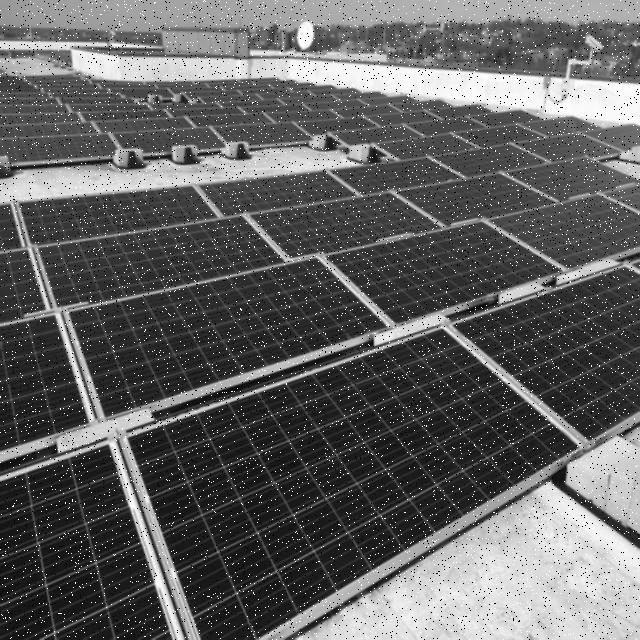clean: (0, 120, 639, 640)
